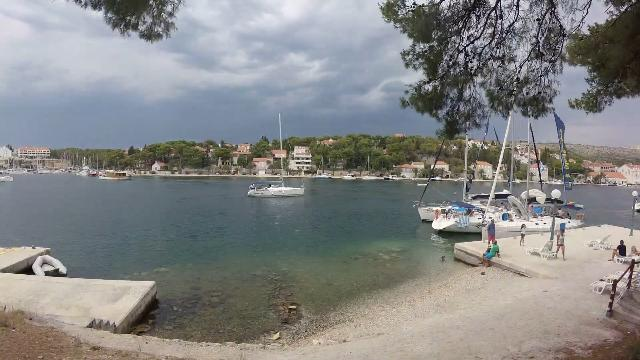Freighter: (96, 166, 134, 185)
Sailboat: (239, 175, 315, 201)
